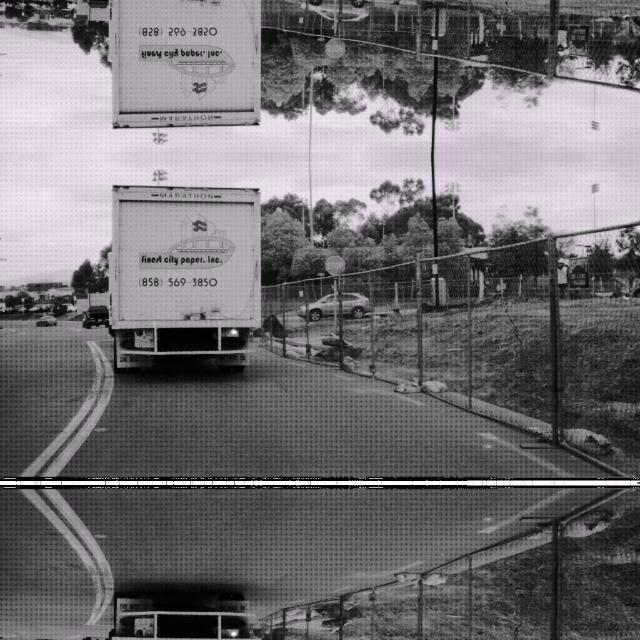stop: (324, 253, 346, 274), (324, 38, 346, 58)
